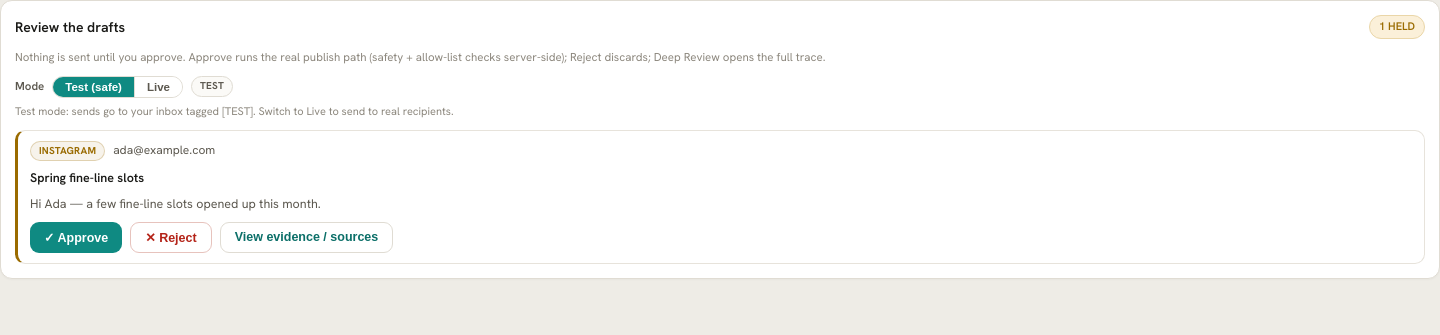
Test: StagedDraftsReview › a FAILED approve shows WHY and keeps the card (never a fake sent)
Click the button with aria-label "Approve and publish".
click(76, 237)  # box x1=30 y1=222 x2=122 y2=253
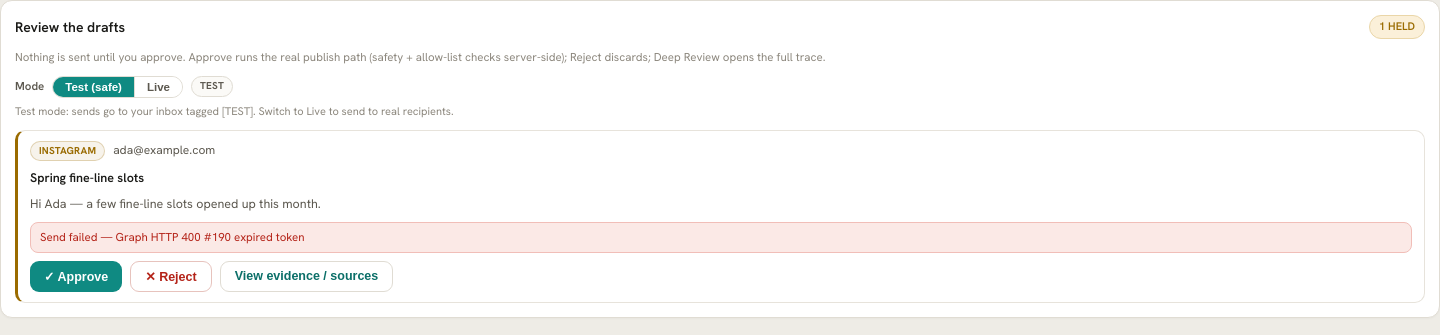
Result: the message "Send failed — Graph HTTP 400 #190 expired token" is shown at x1=30 y1=222 x2=1412 y2=253
Result: the message shows "expired token" at x1=116 y1=229 x2=304 y2=244
